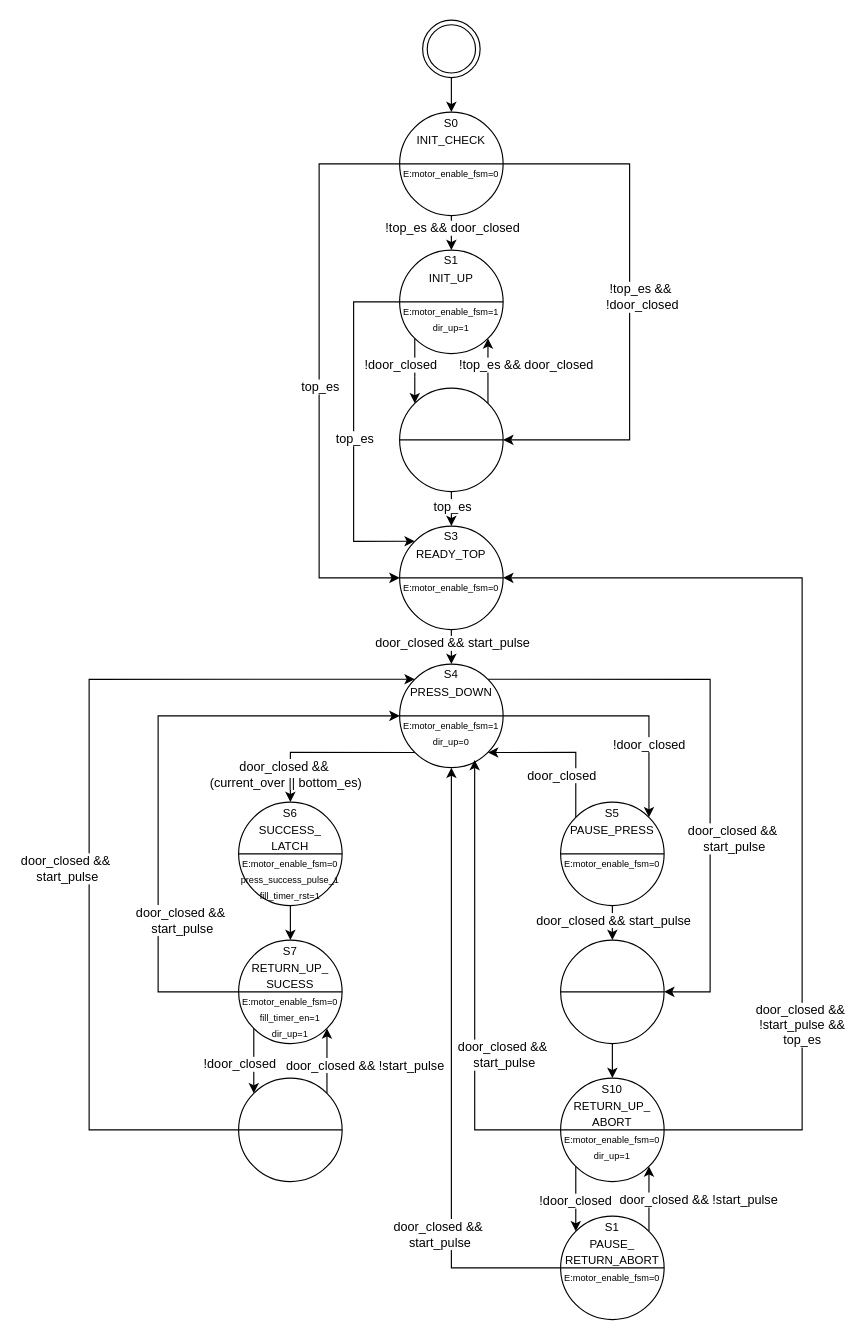
The diagram is 867 pixels wide and 1340 high, and some of its shapes have lost their labels. The shapes that lost their labels are listed below. From the top down, each one's box as (x1, y1, x2, y2) in pixels, then its label:
(421, 19, 480, 78): Start
(398, 387, 503, 492): S2 INIT_PAUSE E:motor_enable_fsm=0
(559, 939, 664, 1044): S9 ABORT_LATCH E:motor_enable_fsm=0 press_abort_ pulse=1
(237, 1077, 342, 1182): S8 PAUSE_RE- TURN_SUCCESS E:motor_enable_ fsm=0 pause_timer
